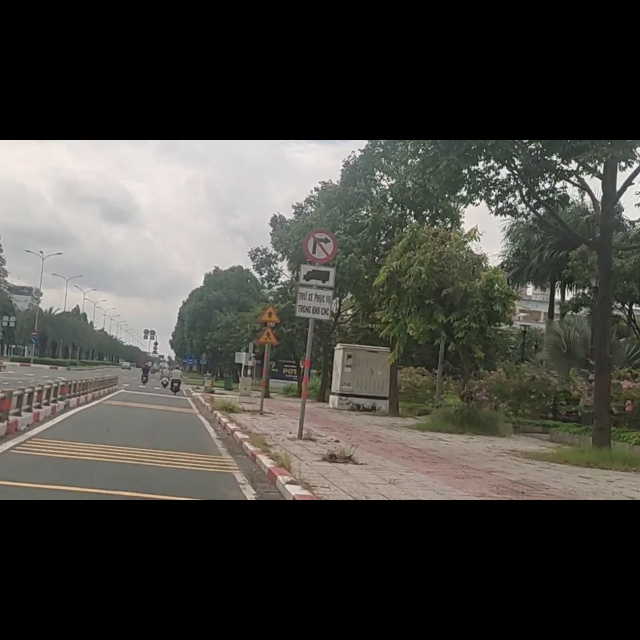bien_nguy_hiem: (295, 219, 335, 316), (301, 156, 339, 218), (256, 290, 281, 324), (257, 328, 279, 363)
